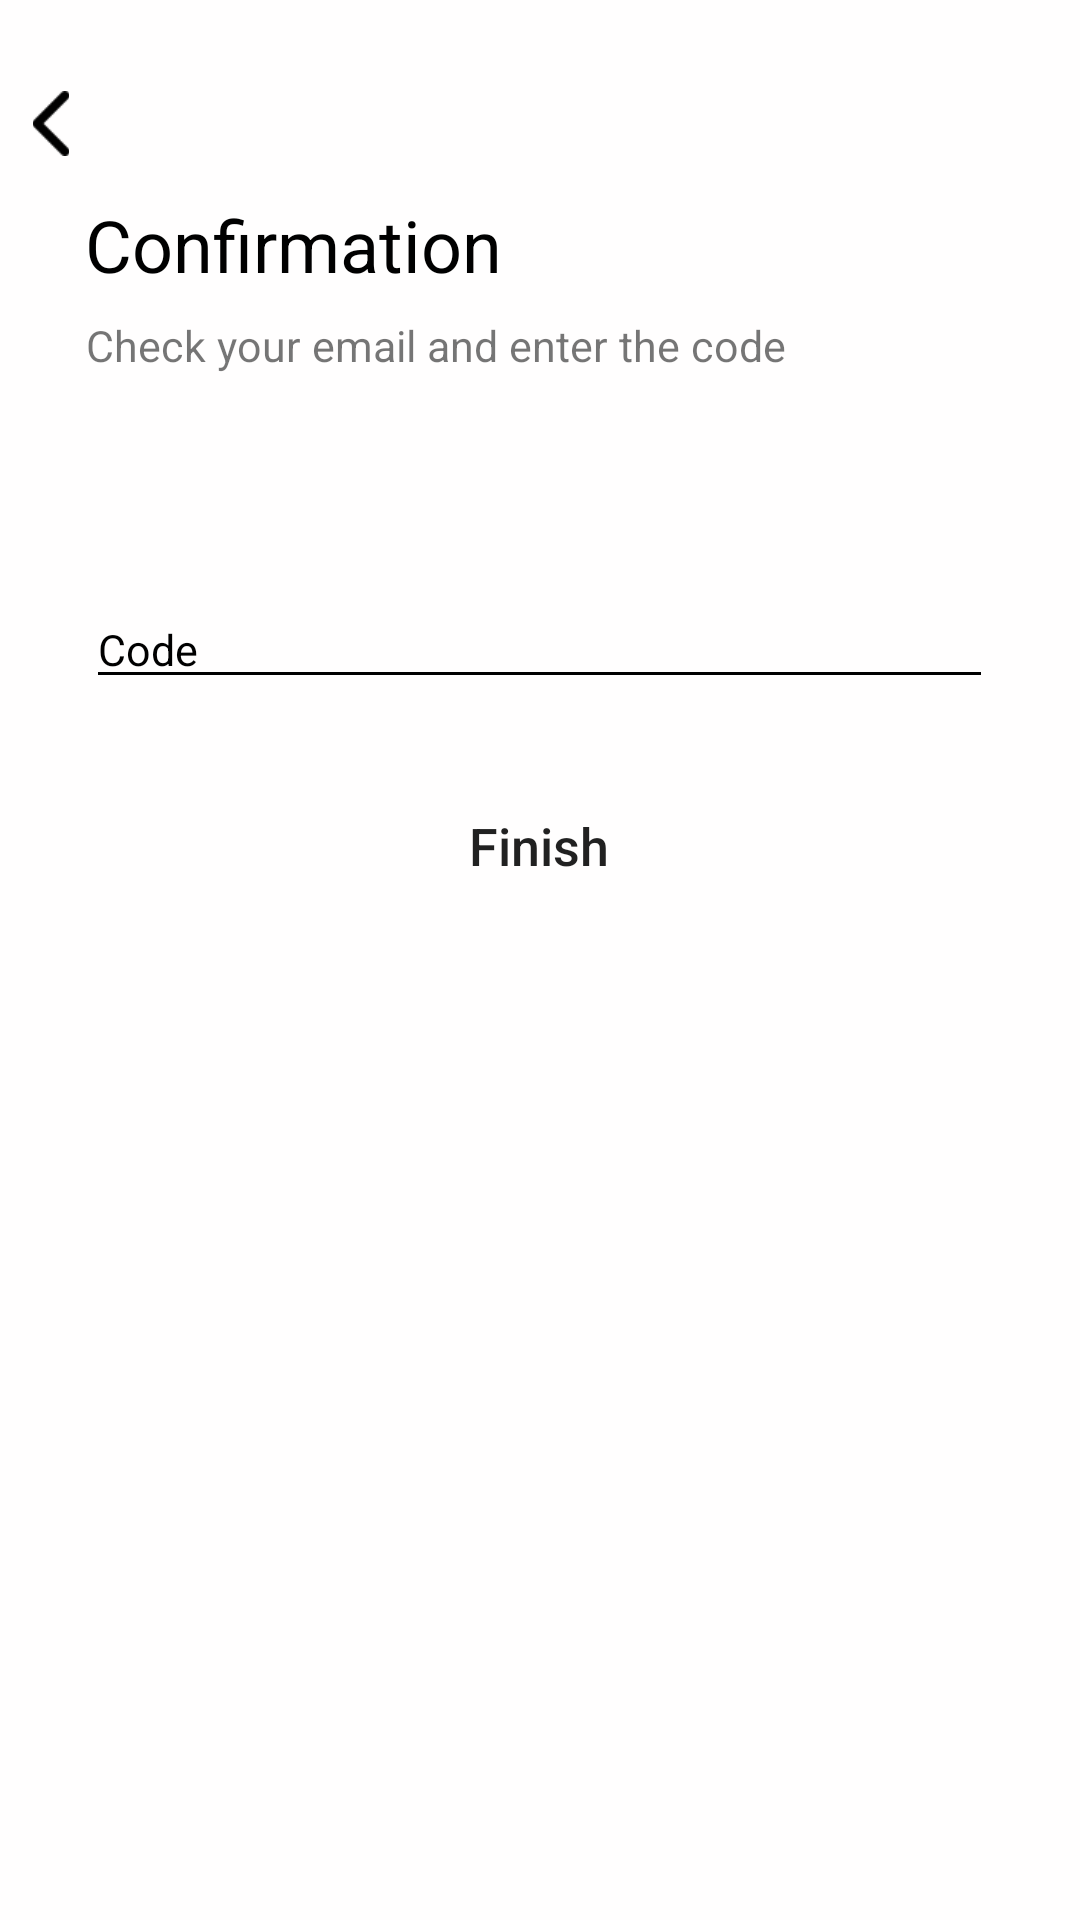

Where icons sit on this 1080x1920 app screen, as bbox=[x1, y1, x2, y2]:
back: bbox=[33, 91, 69, 156]
